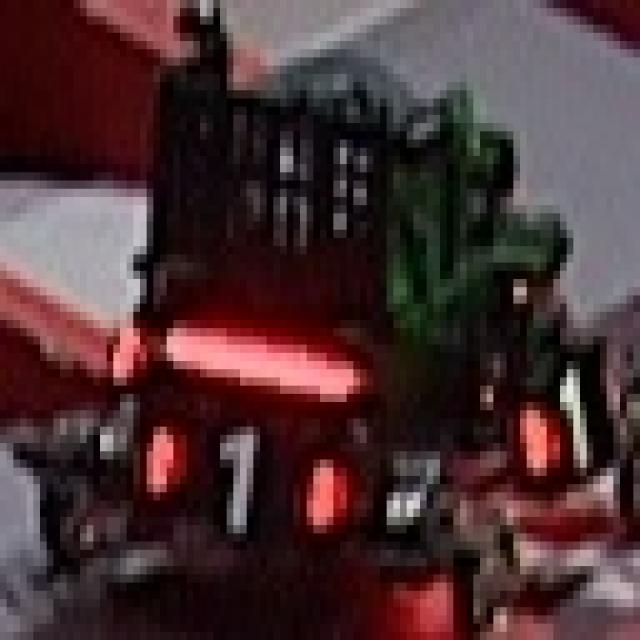R1: (133, 402, 347, 542), (493, 337, 620, 492)
